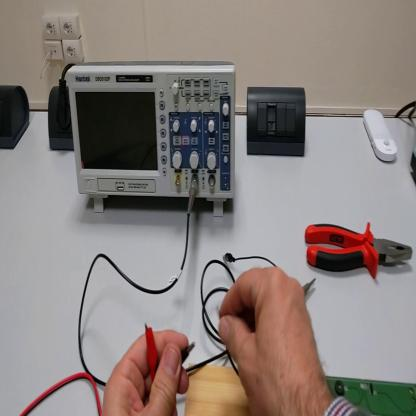hand: (220, 264, 329, 413), (102, 330, 190, 416)
low voltage board: (218, 305, 416, 416)
oscilloscope: (66, 61, 238, 220)
oscilloscope probe tip: (303, 277, 317, 296)
pliers: (304, 215, 415, 281)
socket: (2, 83, 32, 151), (47, 89, 75, 152)
working area: (185, 364, 252, 415)
